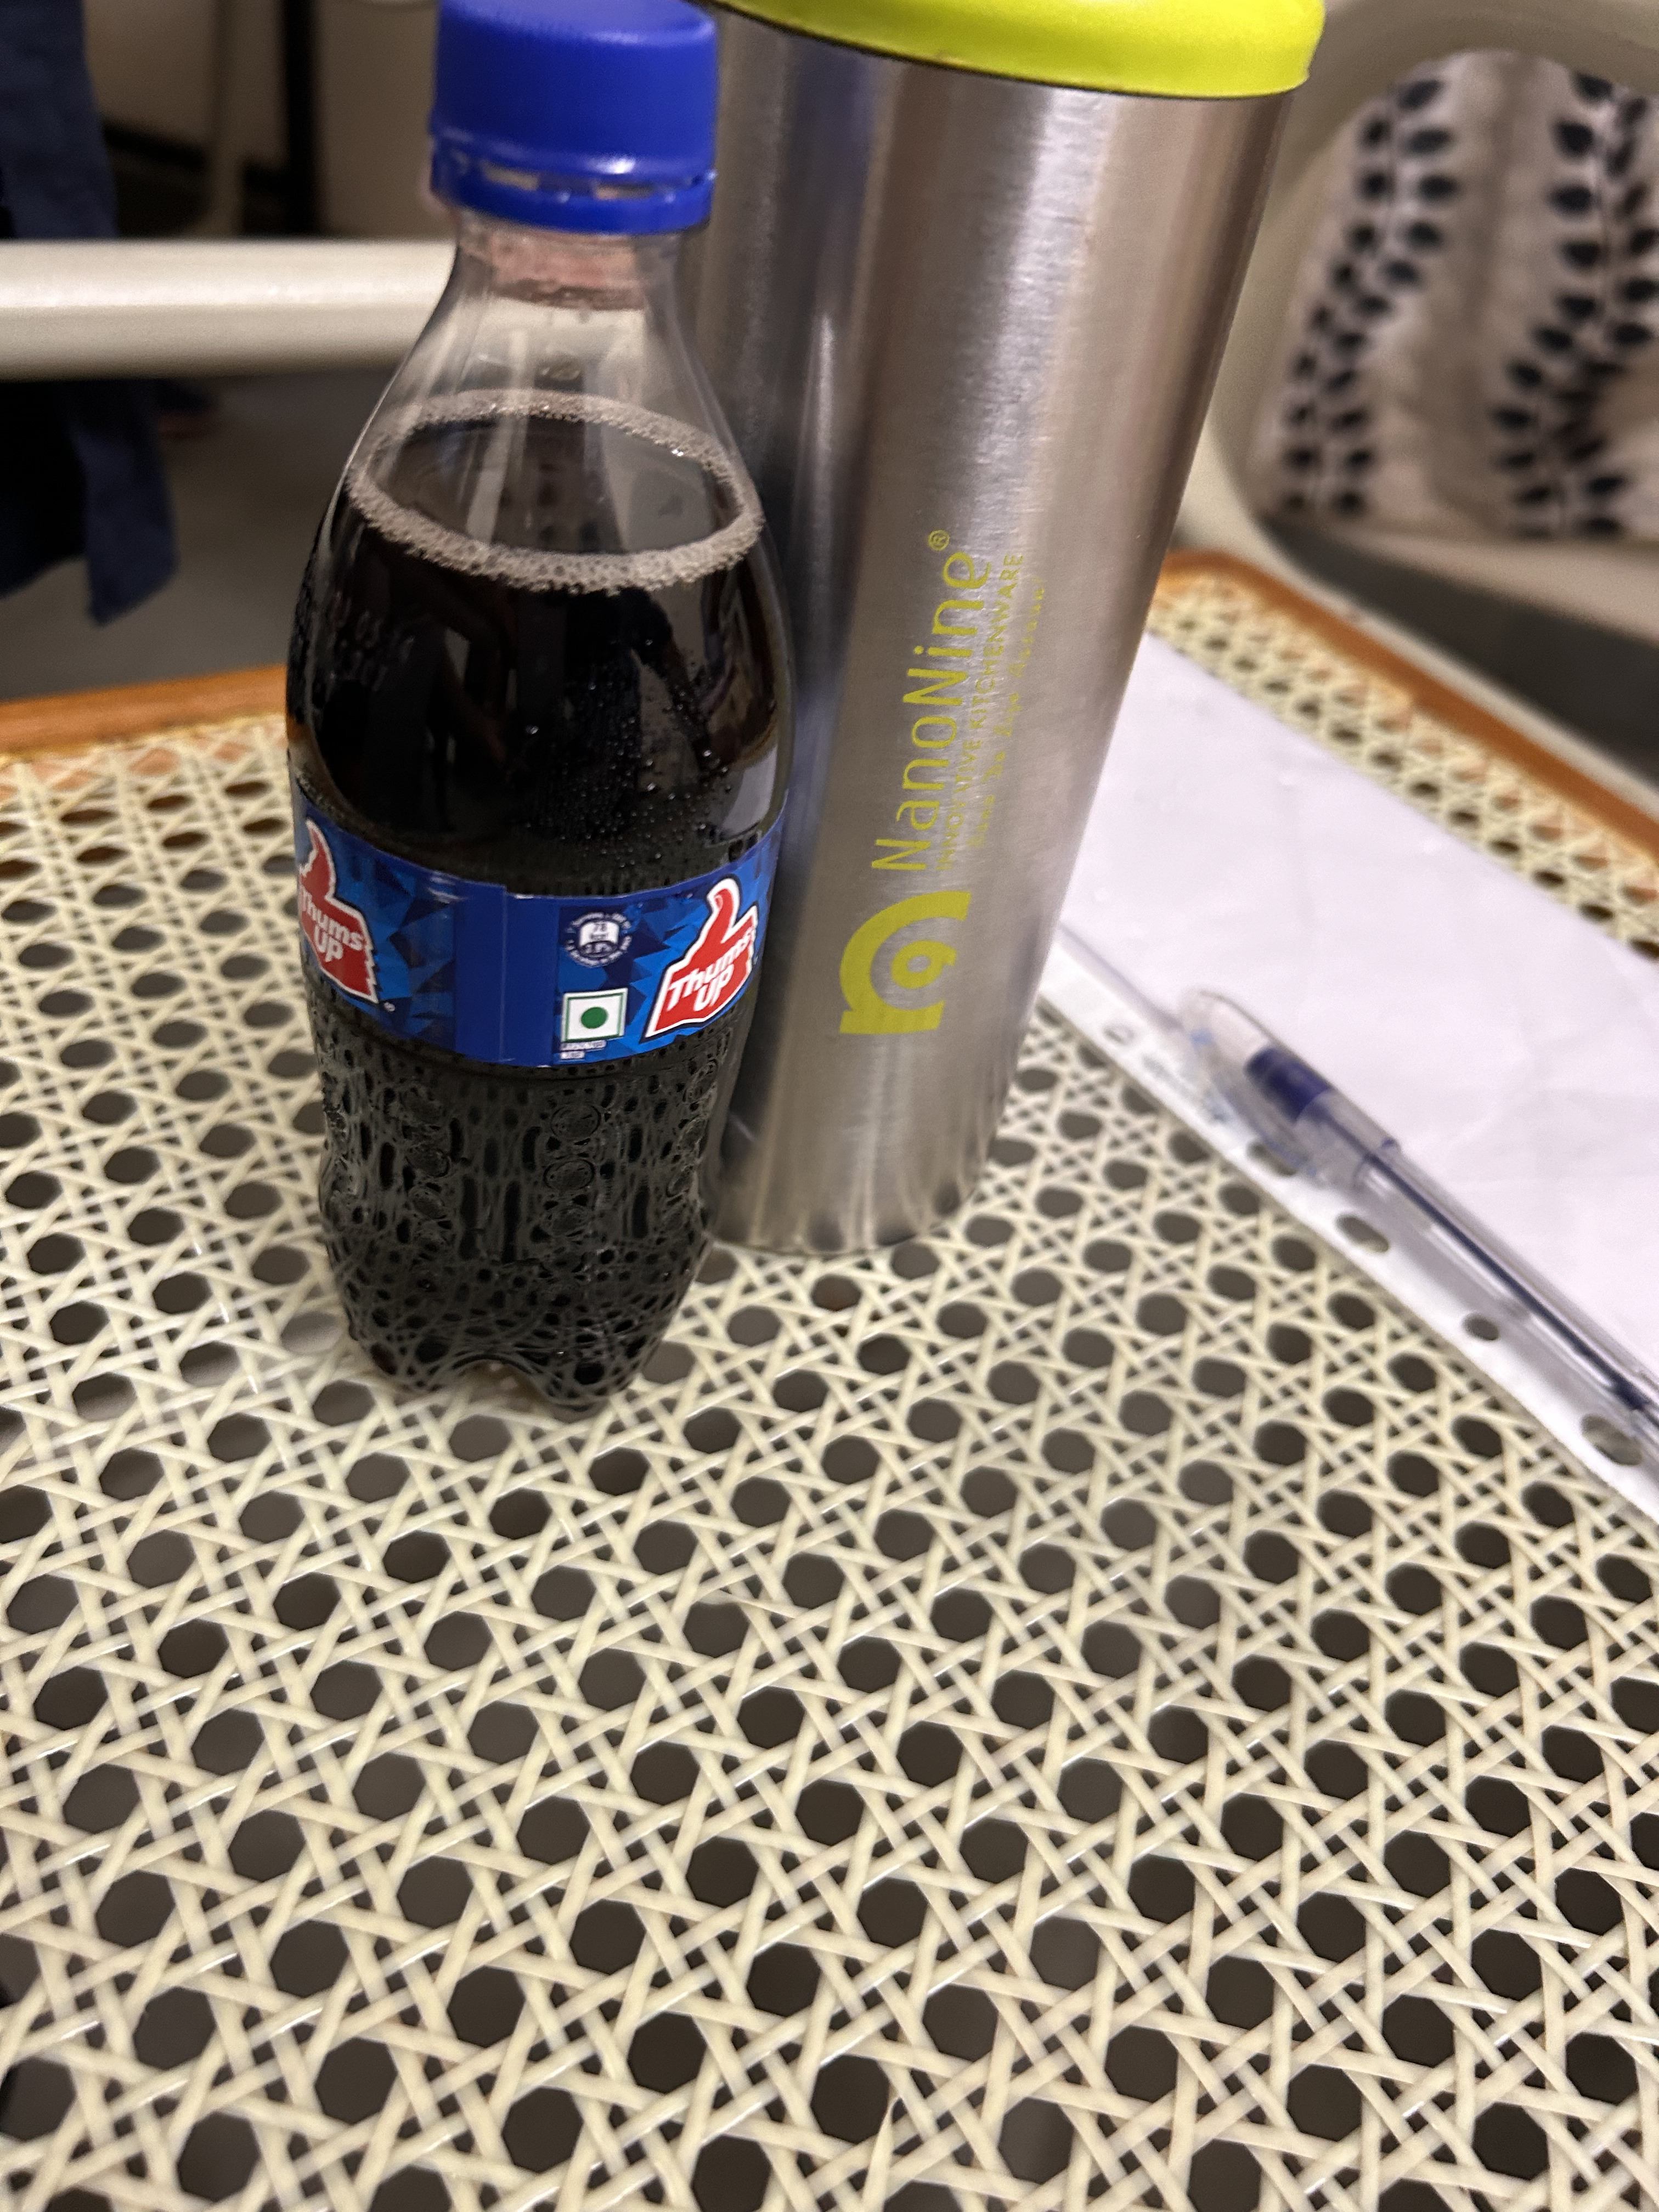unsealed: (408, 2, 737, 301)
